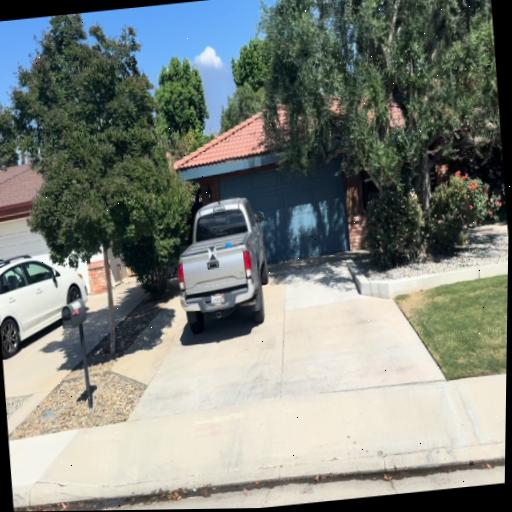target1: (208, 245, 217, 259)
